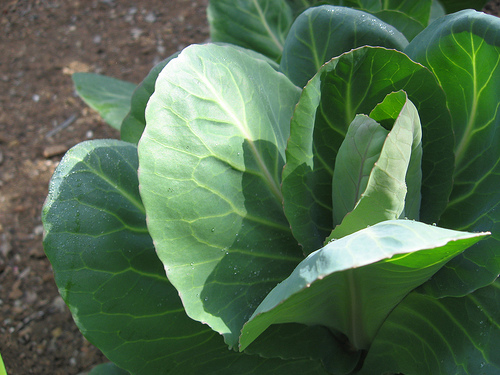cabbage: (41, 0, 498, 373)
